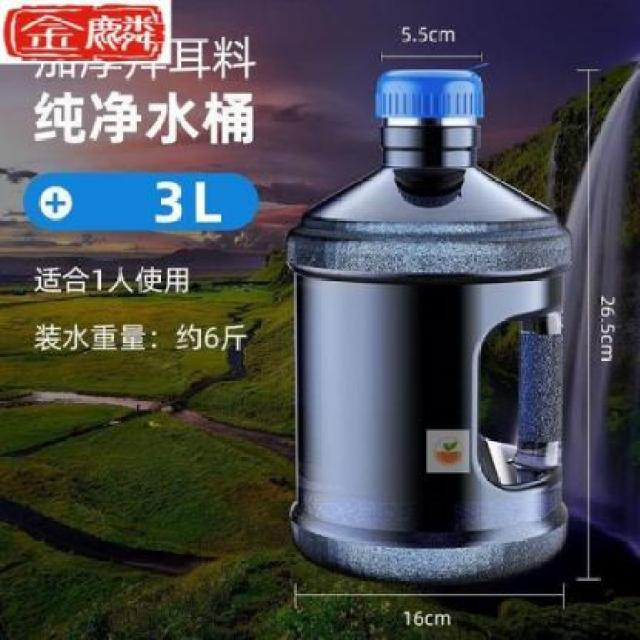coolerbottle: (278, 58, 580, 584)
